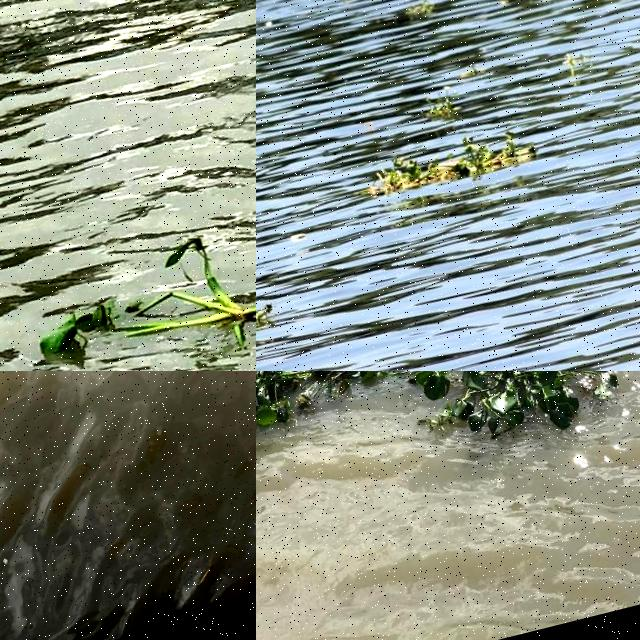water-hyacinth: (6, 172, 257, 372), (257, 372, 486, 519), (404, 372, 640, 464), (356, 123, 545, 205), (416, 84, 472, 130), (257, 294, 283, 334), (560, 47, 596, 71)
